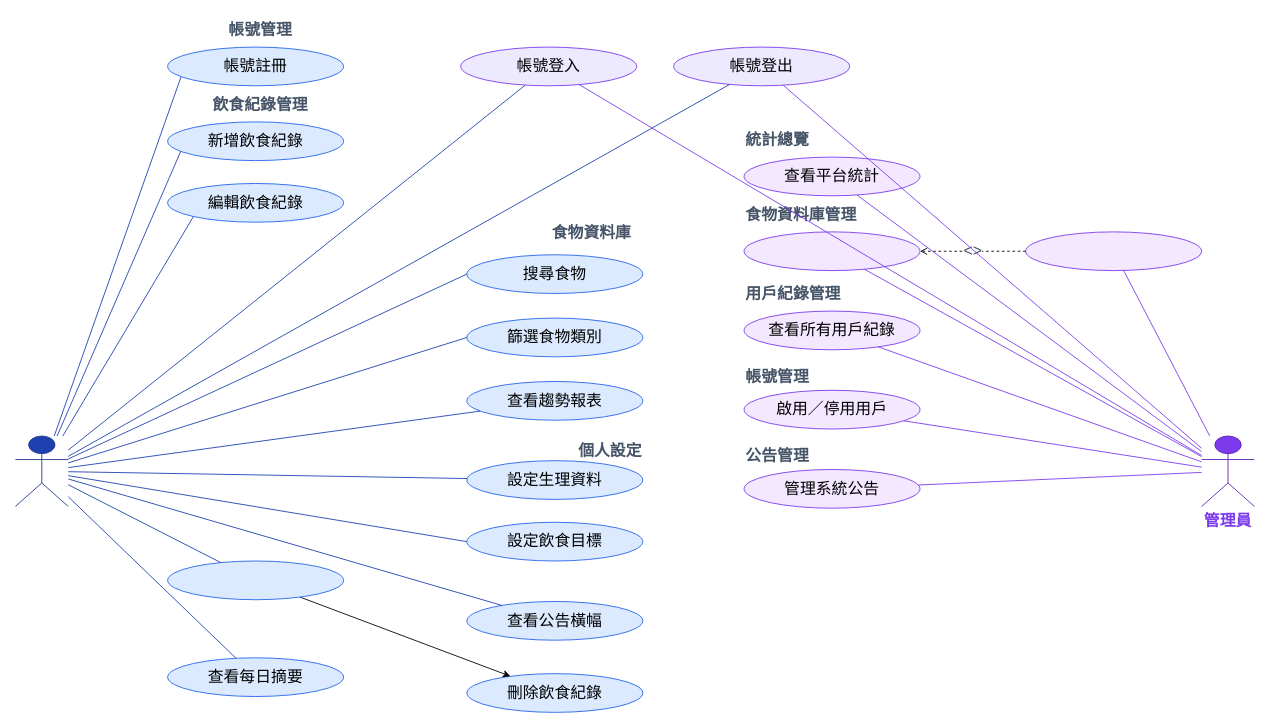
Image size: 1270x728. Some labels were removed from this diagram. The shapes that lost their labels are listed below. From the top down, each one's centre as x and y in pixels, then its label:
At point (831, 251): "管理食物資料庫".
At point (1113, 251): "CSV 批量匯入食物".
At point (41, 470): "一般使用者".
At point (255, 580): "切換查詢日期".
